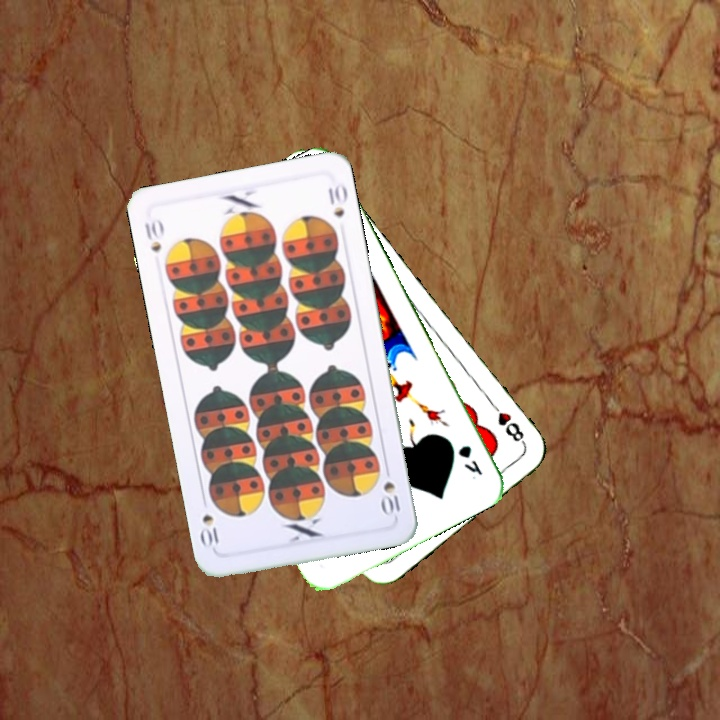GK: (453, 441, 485, 478)
H8: (485, 397, 528, 447)
S10: (378, 461, 403, 519), (140, 215, 166, 255)
